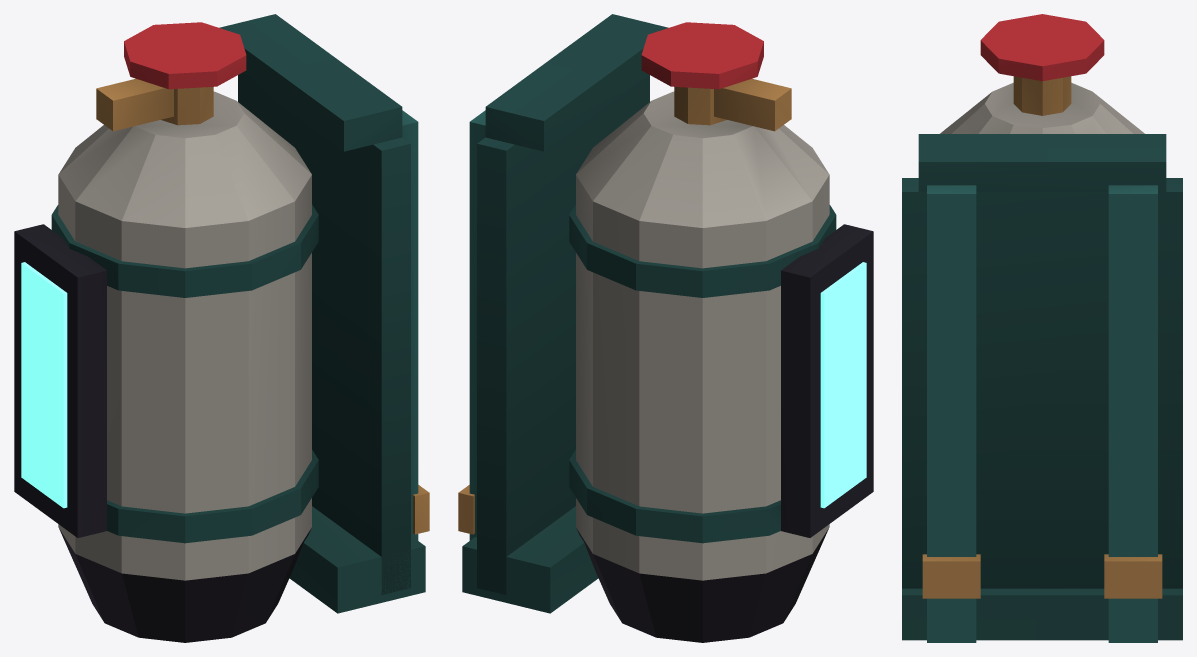
3 views of the same model, side by side, from view 1: azimuth 30°, elevation 25°; view 2: azimuth 150°, elevation 25°; view 3: azimuth 270°, elevation 25° (orthographic). The views are drawn at different scales.
Visible parts, largest first — view 1: body_pal_picketWhite, body_emi_tealLight; view 2: body_pal_picketWhite, body_emi_tealLight; view 3: body_pal_picketWhite.
Boxes of the visible parts, left/top/right/bottom form: body_pal_picketWhite: left=14, top=14, right=429, bottom=642; body_emi_tealLight: left=21, top=262, right=67, bottom=508; body_pal_picketWhite: left=458, top=14, right=873, bottom=642; body_emi_tealLight: left=820, top=262, right=866, bottom=508; body_pal_picketWhite: left=902, top=14, right=1182, bottom=642.
Bounding box in the file's own units: 0.445 × 0.725 × 0.34.
